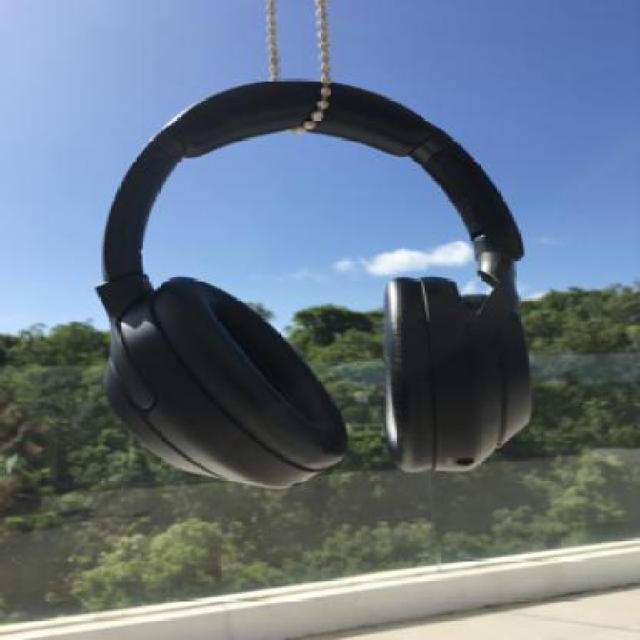earphone: (90, 55, 575, 492)
